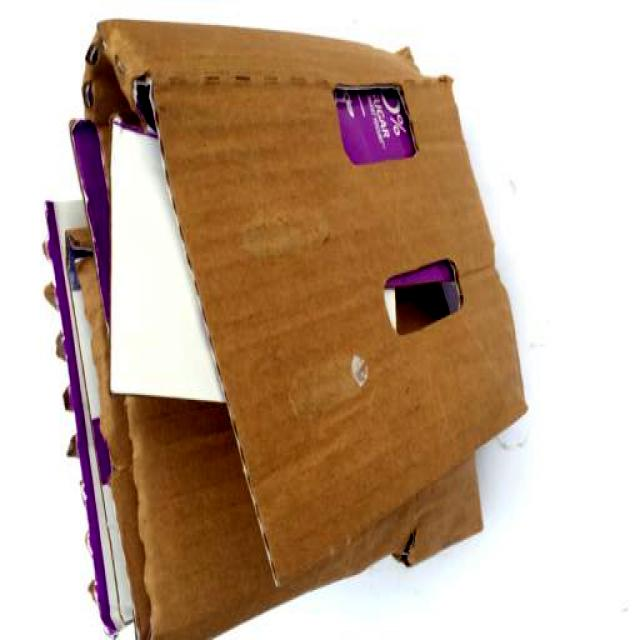cardboard: (42, 18, 530, 638)
